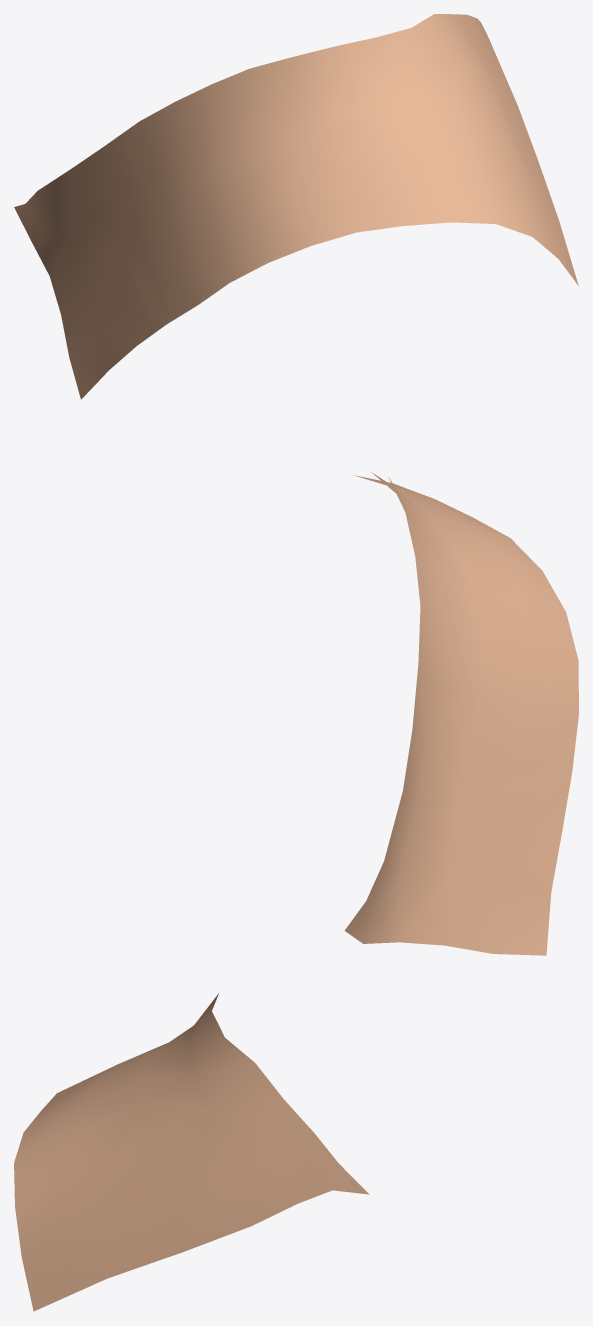
The model's file is dorsum-of-foot-r.glb.
3 renders of one model, top to bottom at view 1: azimuth 30°, elevation 25°; view 2: azimuth 150°, elevation 25°; view 3: azimuth 270°, elevation 25°, orthographic. The views are drawn at different scales.
Parts seen in each view (by area): view 1: Dorsum of foot.r; view 2: Dorsum of foot.r; view 3: Dorsum of foot.r.
Part boxes in pixels (<box>): Dorsum of foot.r: <box>14,14,578,399</box>; Dorsum of foot.r: <box>344,472,578,955</box>; Dorsum of foot.r: <box>14,993,369,1311</box>.
Size of the model in its own units: 0.0757 by 0.0584 by 0.0808.
